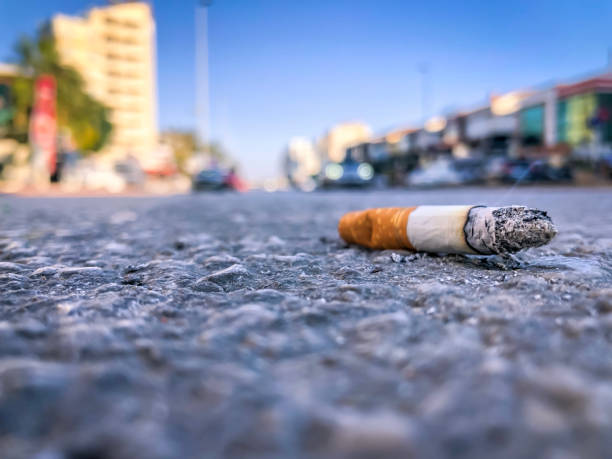cigarette: (337, 205, 556, 256)
